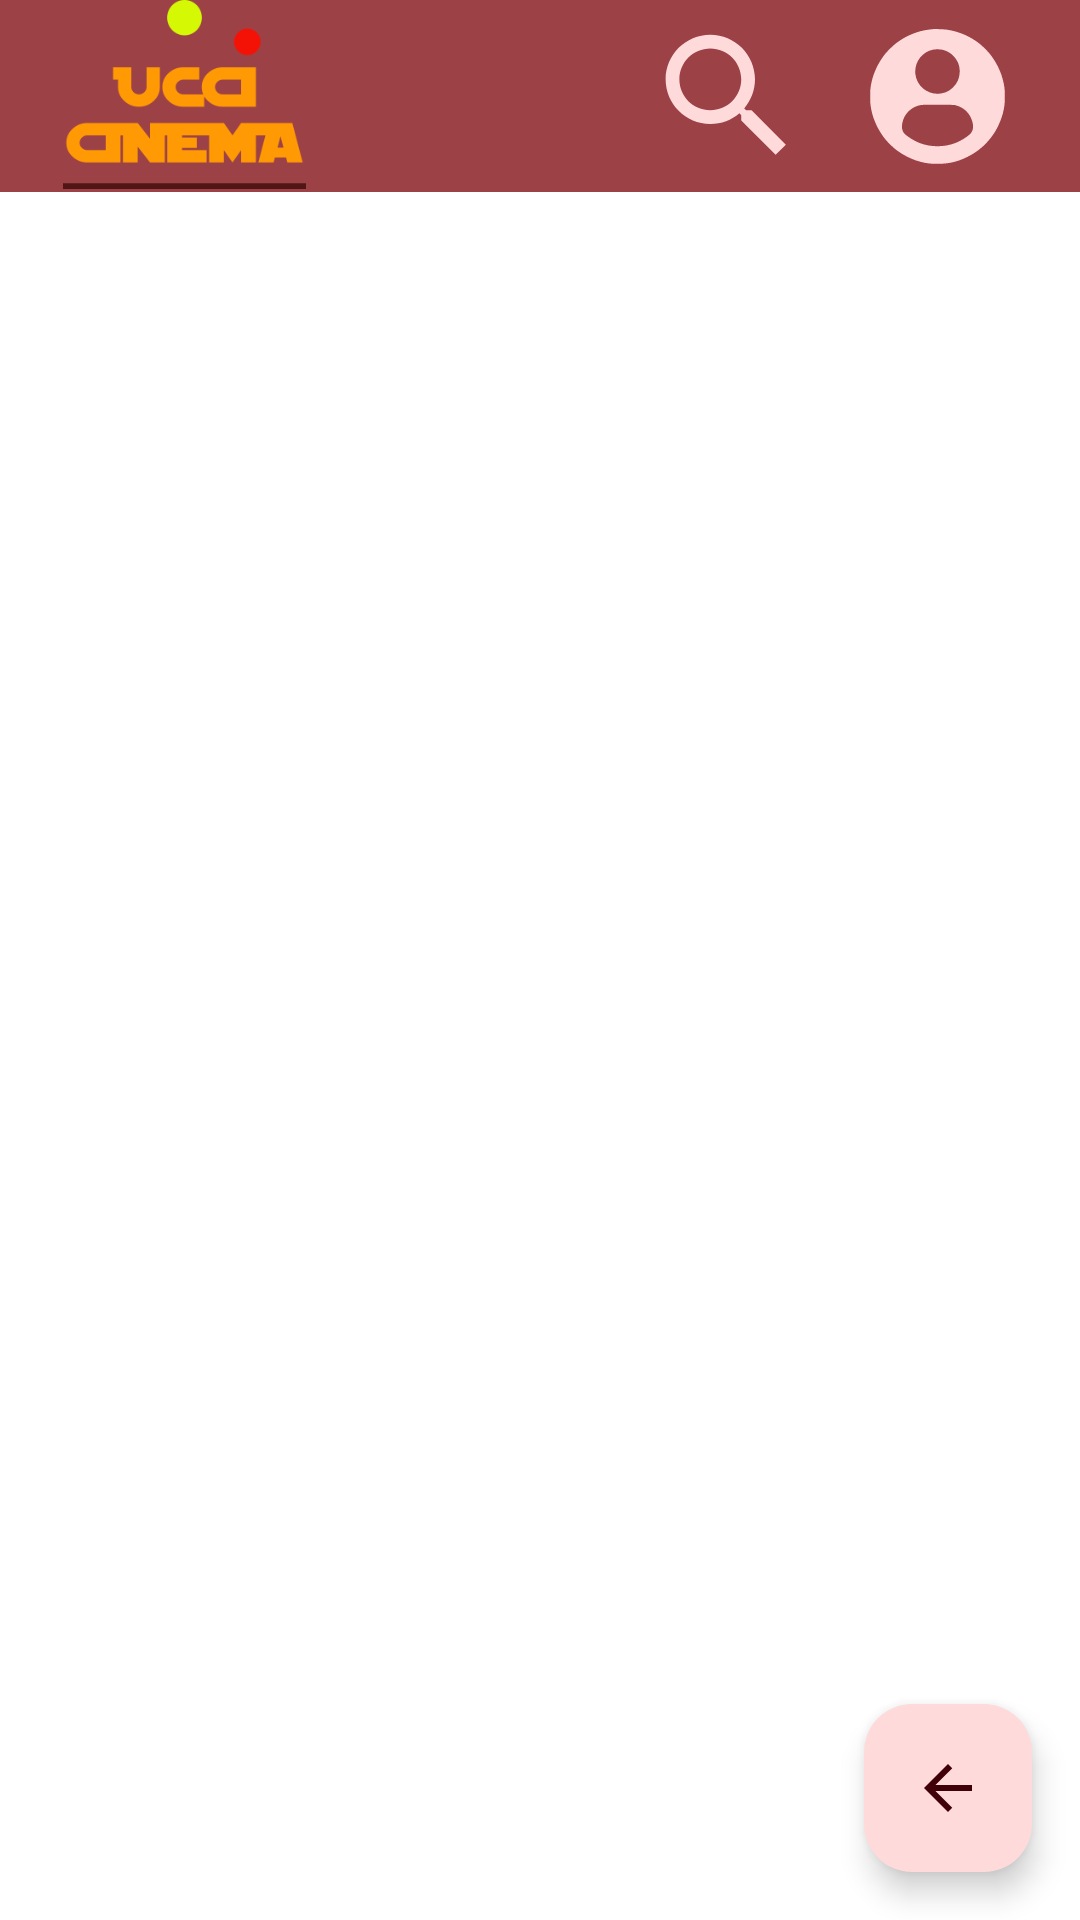

Icon bounding boxes for this 1080 x 1920 phone screenshot, format (x1, y1, x2, y2):
back: (864, 1704, 1032, 1872)
icona cerca: (665, 34, 786, 155)
icona login: (870, 29, 1005, 164)
